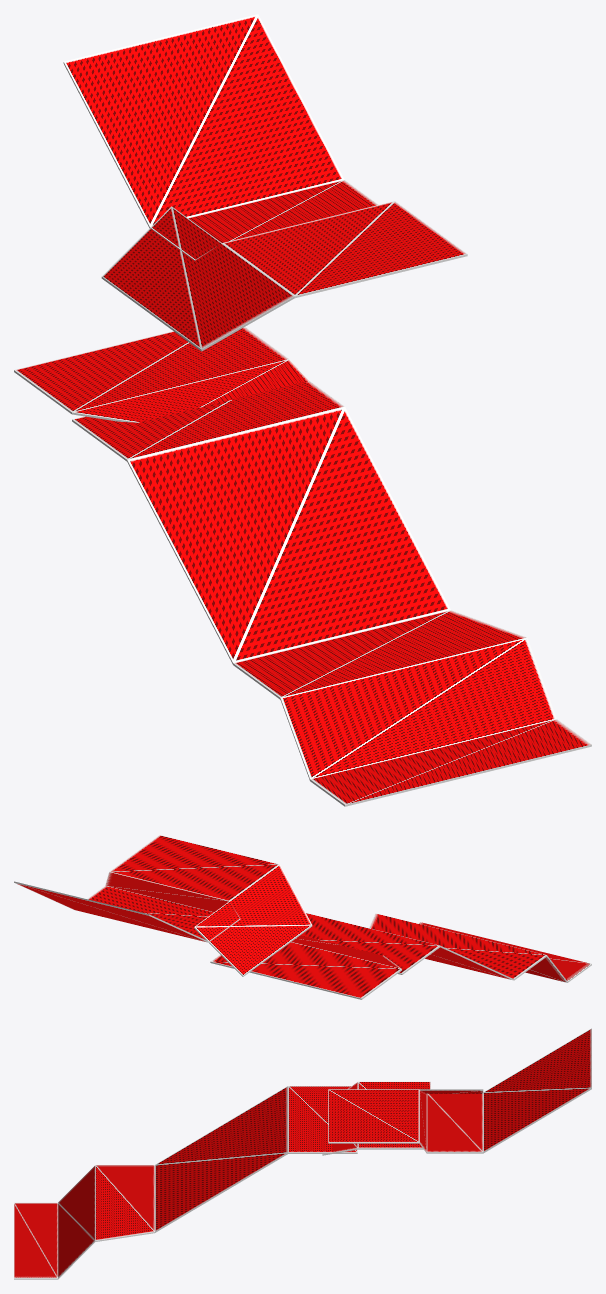
Rendered from Killplanes.obj.
The picture shows the model from 3 angles, top to bottom: view 1: azimuth 30°, elevation 25°; view 2: azimuth 150°, elevation 25°; view 3: azimuth 270°, elevation 25°; orthographic projection. The views are drawn at different scales.
Bounding box in the file's own units: 5842 × 5486 × 12479.
Materials: 1 (1 with a texture image).
